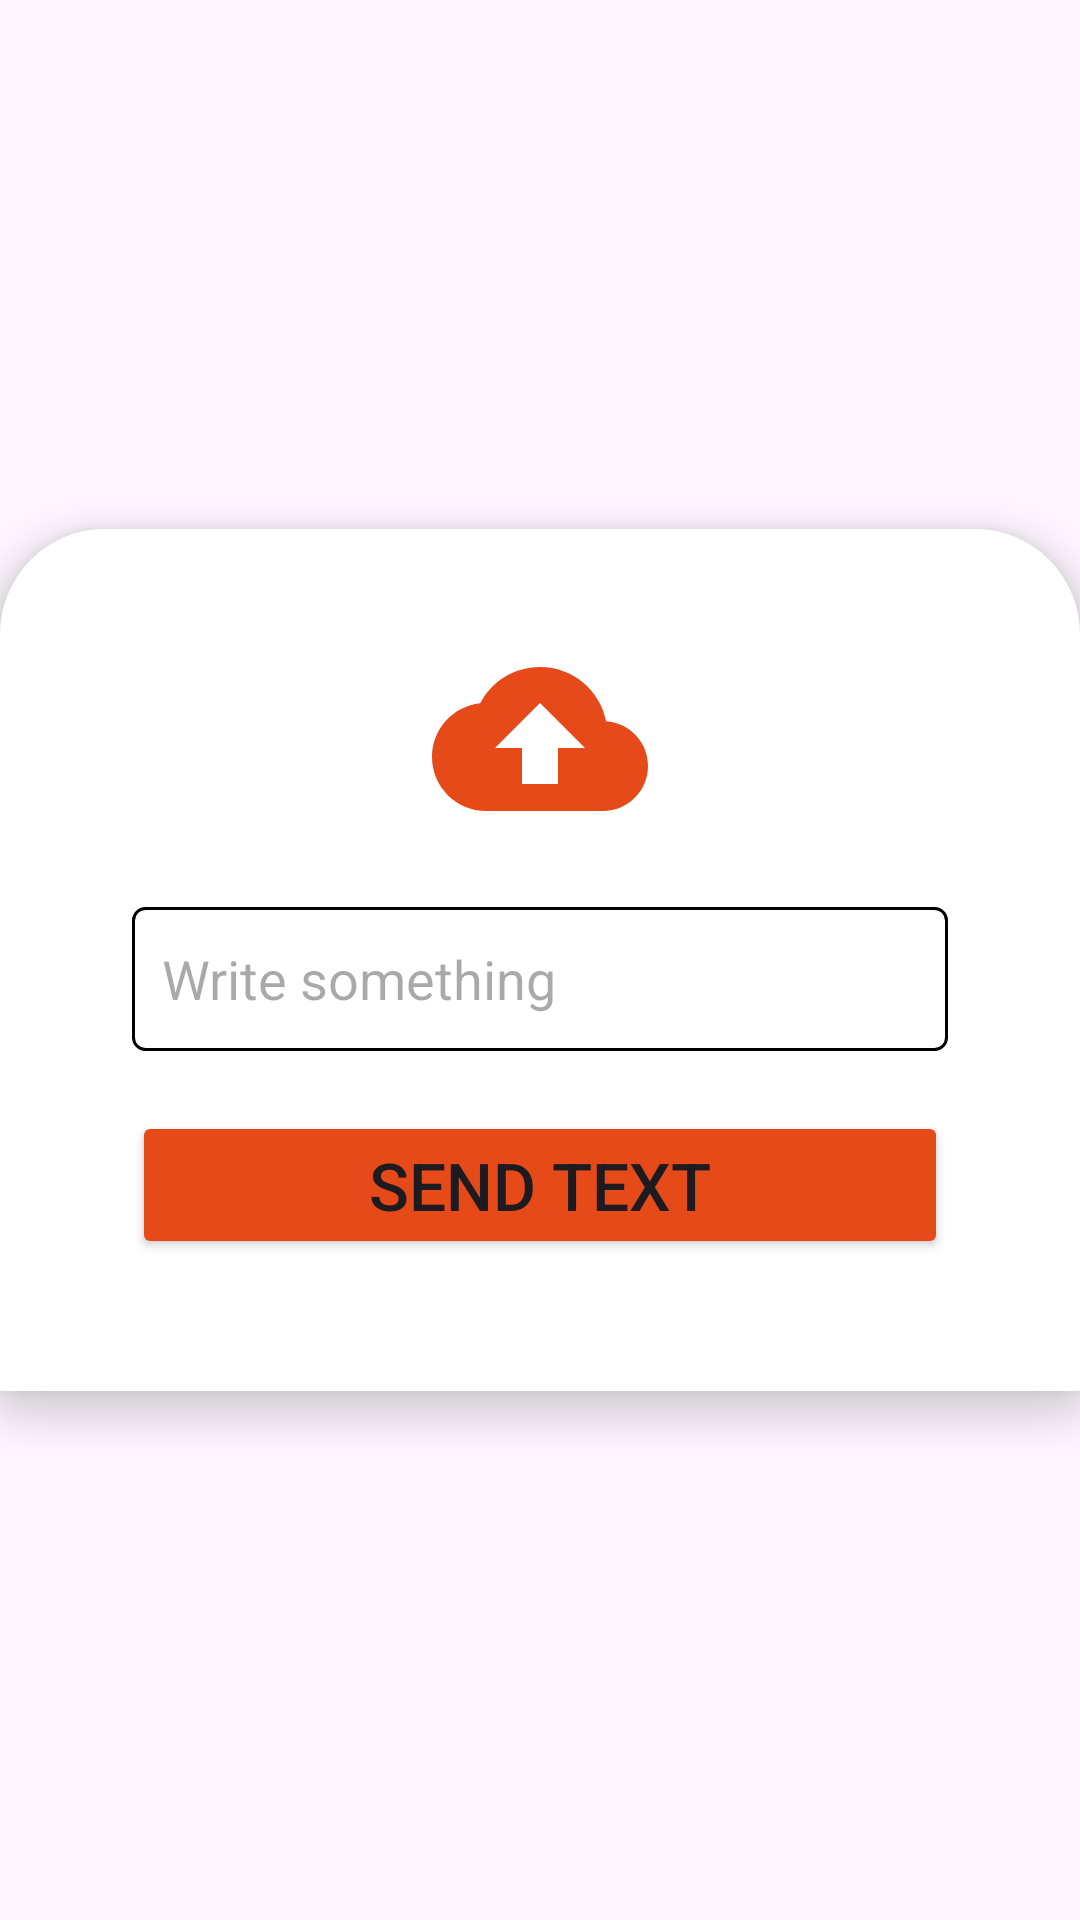

Screen size 1080×1920. Icon name, then its center in pixels as point (x, y):
cloud upload: point (540, 739)
